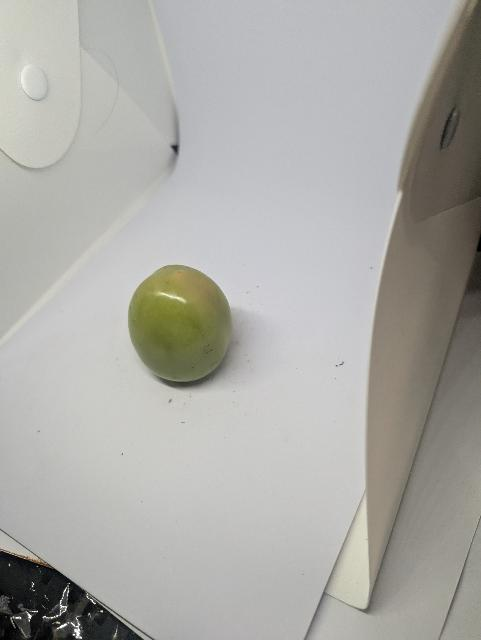green: (119, 250, 245, 394)
